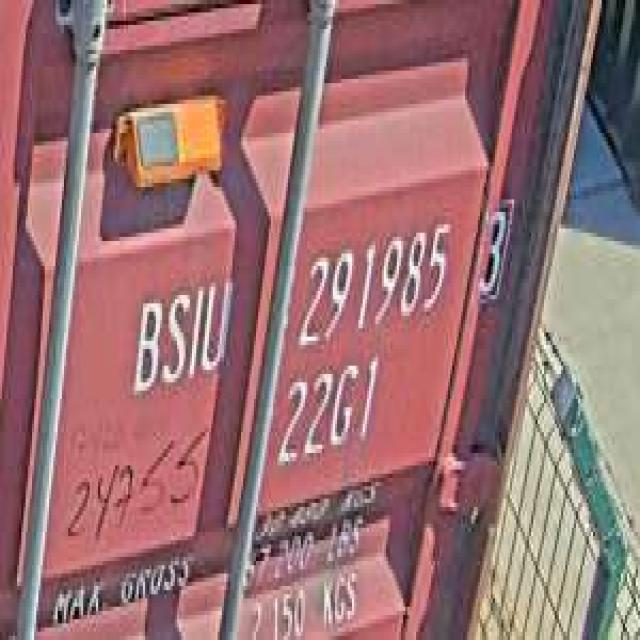dv: (474, 191, 512, 308)
owner: (126, 270, 232, 395)
serial: (294, 216, 454, 349)
size: (277, 345, 384, 470)
